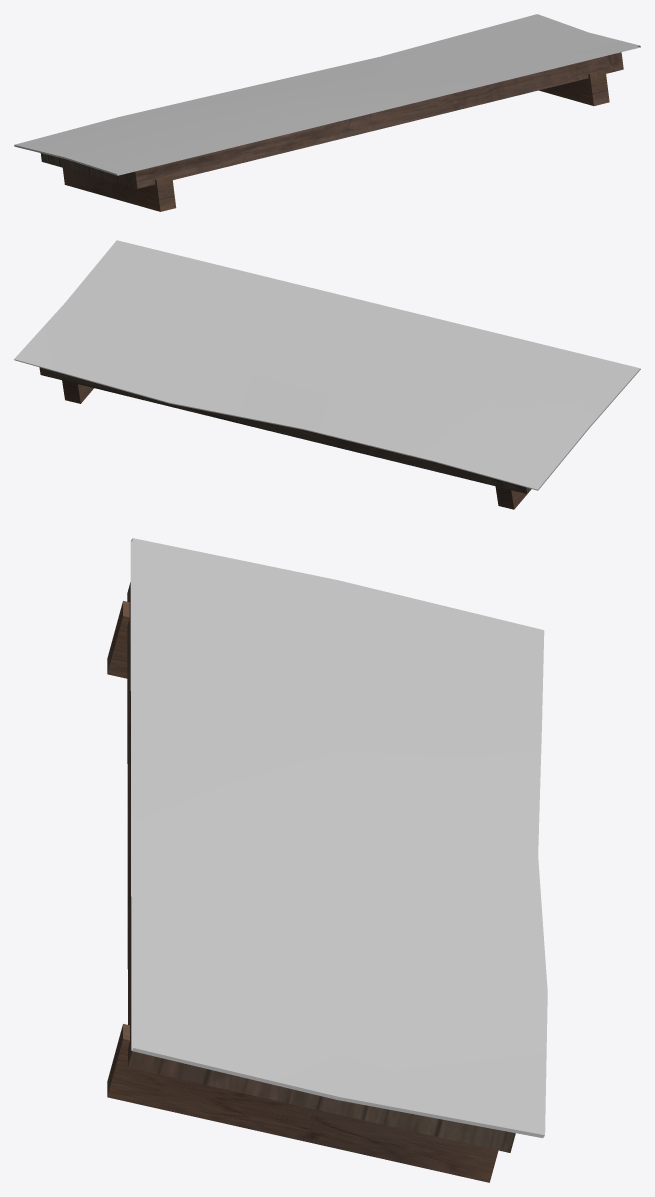
File: jovhouse_sunshade02ba.fbx
3 renders of one model, top to bottom at view 1: azimuth 30°, elevation 25°; view 2: azimuth 150°, elevation 25°; view 3: azimuth 270°, elevation 25°, orthographic. The views are drawn at different scales.
Visible parts, largest first — view 1: jovhouse_sunshade02ba; view 2: jovhouse_sunshade02ba; view 3: jovhouse_sunshade02ba.
Part boxes in pixels (x1,y1,x2,y2): jovhouse_sunshade02ba: (14,14,640,211); jovhouse_sunshade02ba: (14,240,640,509); jovhouse_sunshade02ba: (107,538,547,1182).
Size of the model in its own units: 214 by 33.52 by 78.07.
